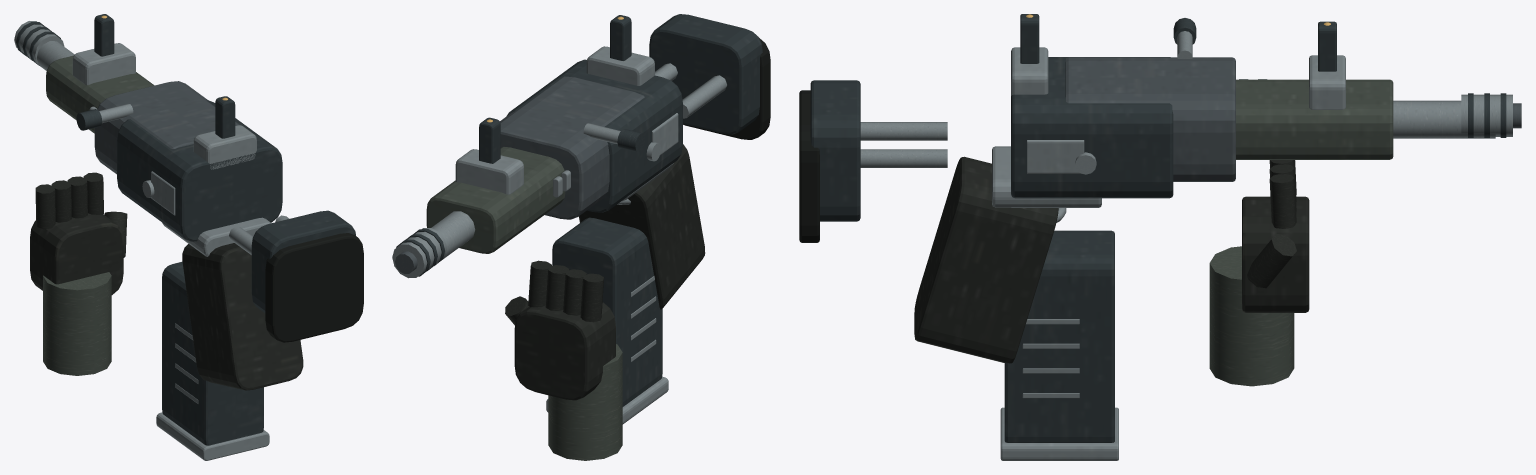
File: smg.glb
3 views of the same model, side by side, from view 1: azimuth 30°, elevation 25°; view 2: azimuth 150°, elevation 25°; view 3: azimuth 270°, elevation 25° (orthographic). The views are drawn at different scales.
Parts seen in each view (by area): view 1: first-person-smg; view 2: first-person-smg; view 3: first-person-smg.
Part boxes in pixels (x1,y1,x2,y2): first-person-smg: [14, 14, 363, 460]; first-person-smg: [392, 14, 770, 460]; first-person-smg: [799, 14, 1521, 460].
Size of the model in its own units: 0.4715 by 1.09 by 1.67.
Materials: 7 (5 with a texture image).
